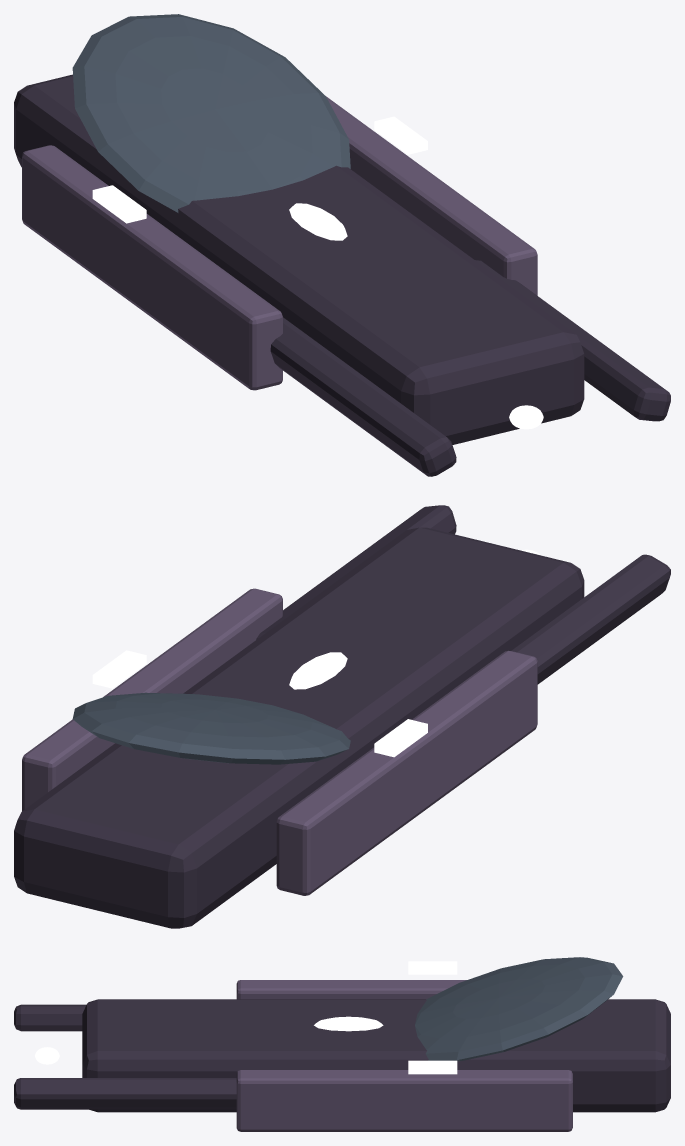
3 renders of one model, top to bottom at view 1: azimuth 30°, elevation 25°; view 2: azimuth 150°, elevation 25°; view 3: azimuth 270°, elevation 25°, orthographic. The views are drawn at different scales.
Visible parts, largest first — view 1: RIMWARD_HULL, RIMWARD_EMISSIVE; view 2: RIMWARD_HULL, RIMWARD_EMISSIVE; view 3: RIMWARD_HULL, RIMWARD_EMISSIVE, RIMWARD_ENGINE_GLOW.
Part boxes in pixels (x1,y1,x2,y2): RIMWARD_HULL: [14, 14, 670, 476]; RIMWARD_EMISSIVE: [92, 116, 427, 240]; RIMWARD_HULL: [14, 505, 670, 928]; RIMWARD_EMISSIVE: [92, 650, 427, 757]; RIMWARD_HULL: [14, 957, 670, 1131]; RIMWARD_EMISSIVE: [314, 961, 457, 1074]; RIMWARD_ENGINE_GLOW: [35, 1047, 59, 1064].
Size of the model in its own units: 2.59 by 1.27 by 6.75.
